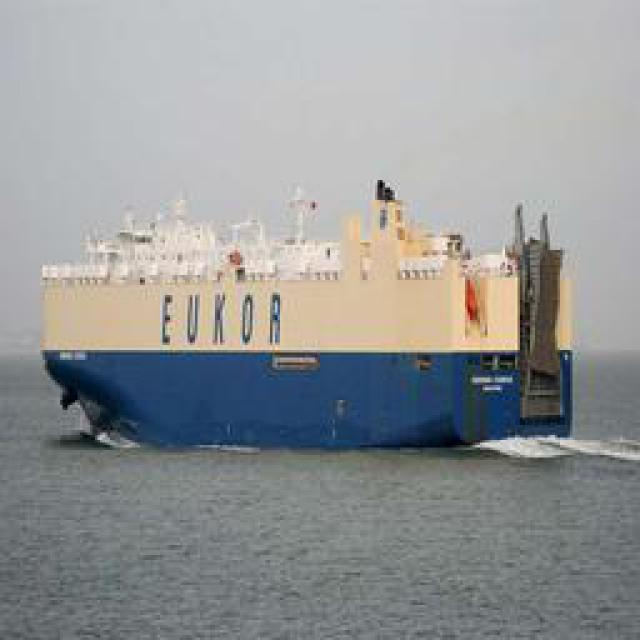Ship: (45, 166, 545, 449)
